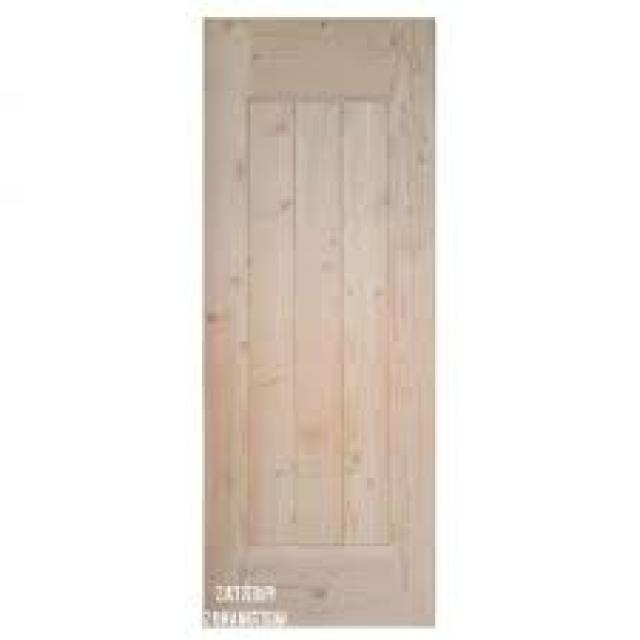door: (200, 16, 437, 627)
